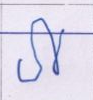i_matra: (36, 17, 64, 75)
